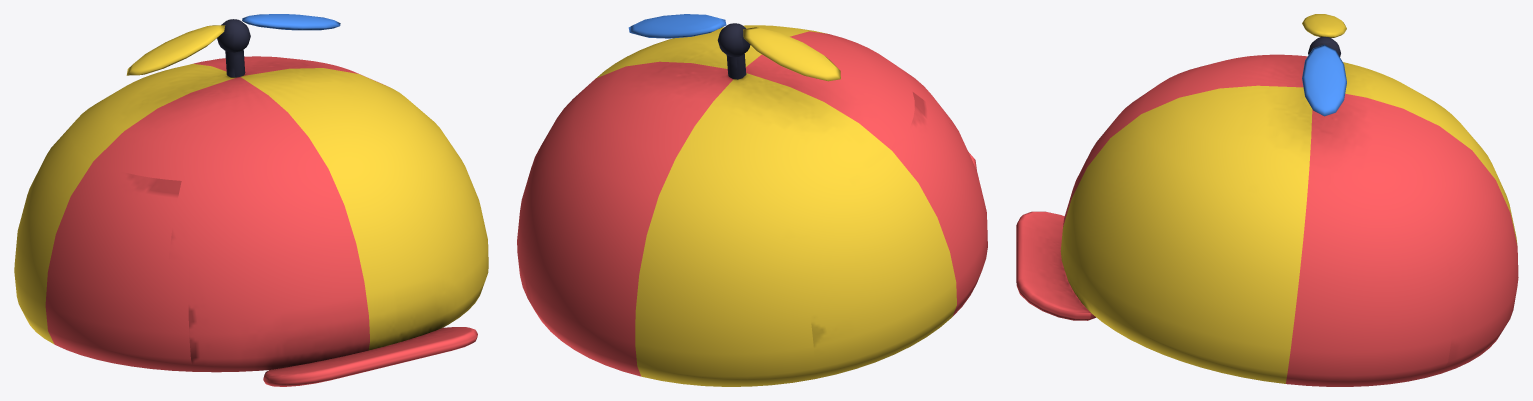
File: hat_propeller.glb
3 views of the same model, side by side, from view 1: azimuth 30°, elevation 25°; view 2: azimuth 150°, elevation 25°; view 3: azimuth 270°, elevation 25° (orthographic). The views are drawn at different scales.
Visible parts, largest first — view 1: hat_propeller, Propeller; view 2: hat_propeller, Propeller; view 3: hat_propeller, Propeller.
Part boxes in pixels (x1=…): hat_propeller: x1=14, y1=50, x2=488, y2=386; Propeller: x1=126, y1=14, x2=340, y2=75; hat_propeller: x1=517, y1=25, x2=987, y2=386; Propeller: x1=628, y1=14, x2=840, y2=81; hat_propeller: x1=1016, y1=54, x2=1518, y2=386; Propeller: x1=1302, y1=14, x2=1346, y2=116.
Size of the model in its own units: 0.6061 by 0.4058 by 0.6631.
Materials: 4 (4 with a texture image).
